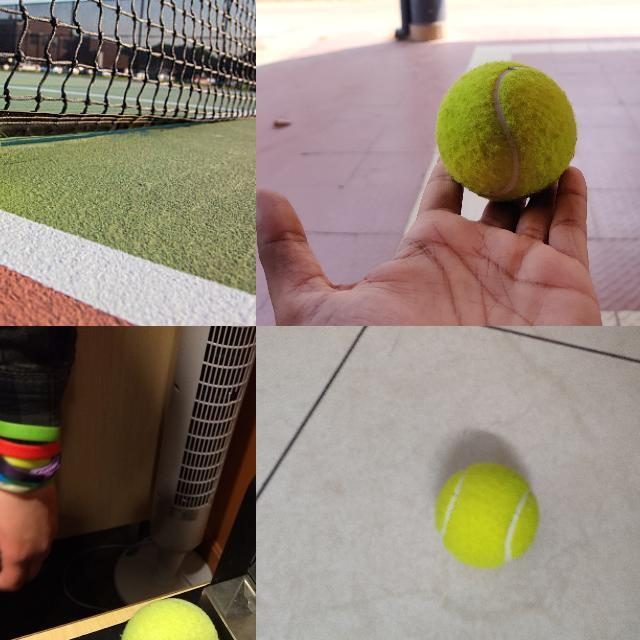tennis-ball: (436, 61, 577, 199), (435, 462, 539, 569), (120, 597, 221, 639)
